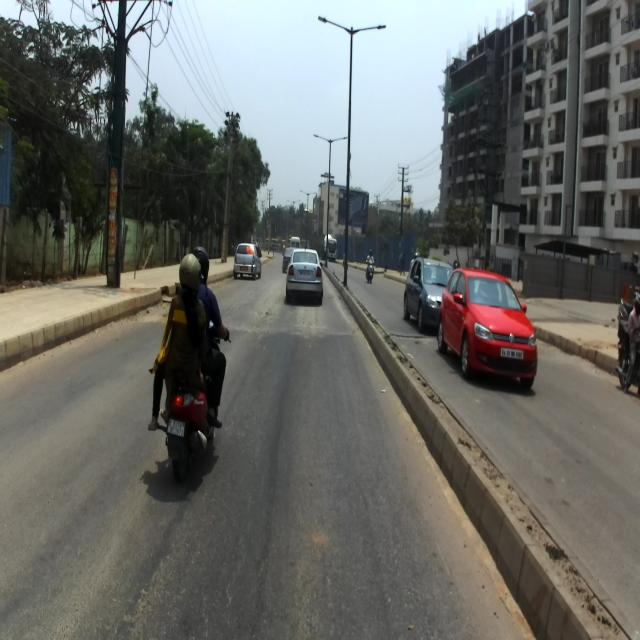car ahead at: (438, 266, 539, 388), (285, 242, 324, 311)
electric pole ahead at: (98, 0, 134, 283)
motorcycle ahead at: (155, 376, 229, 482)
